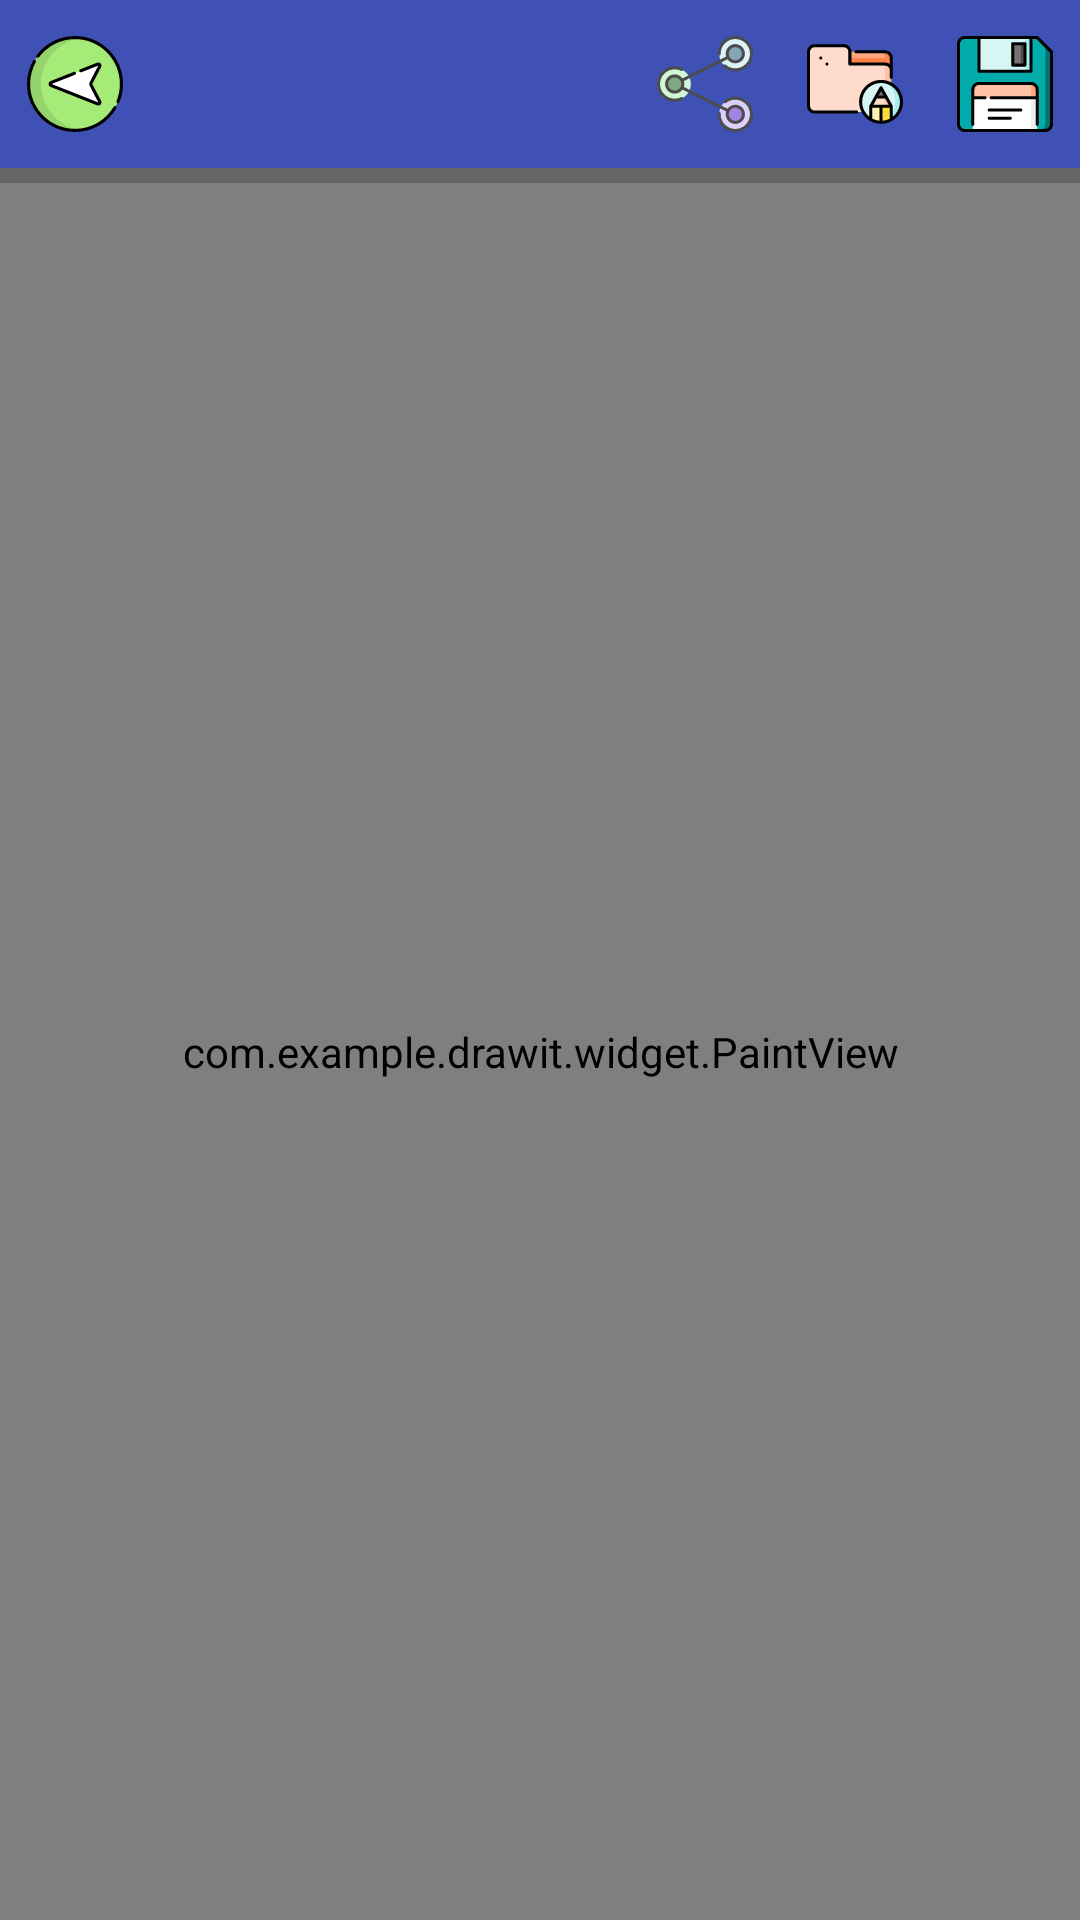

Screen size 1080px×1920px. Icon name, then its center in pixels as [x,y]:
arrow back: [75,84]
diskette save: [1005,84]
folder: [855,84]
share: [705,84]
